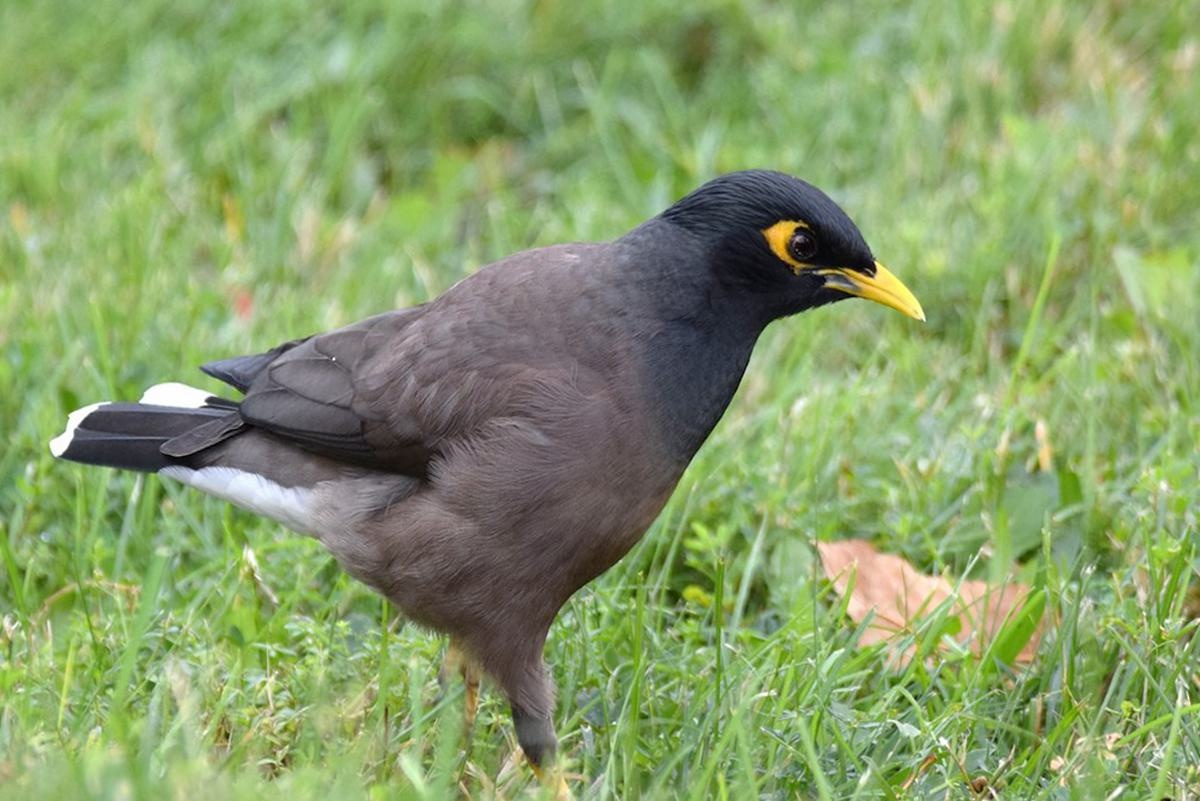myna: (166, 116, 1001, 766)
